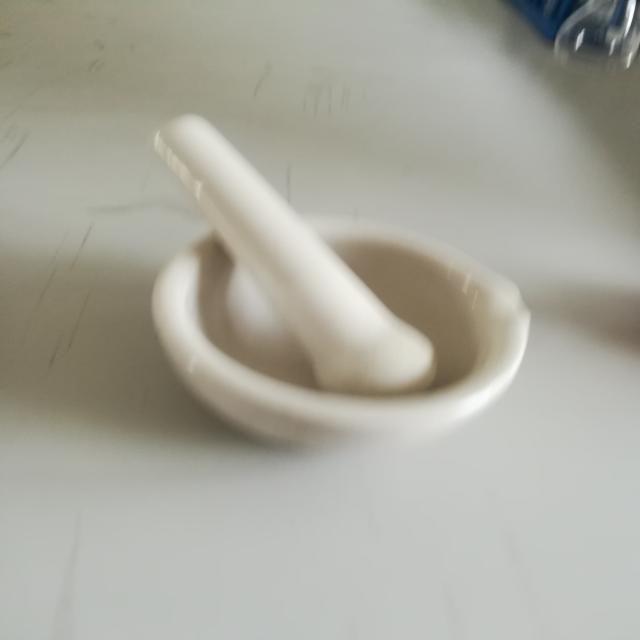Porcelain_Mortar Pestle: (87, 64, 556, 498)
